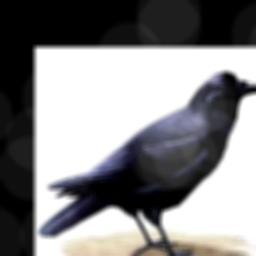Crow: (37, 70, 256, 256)
